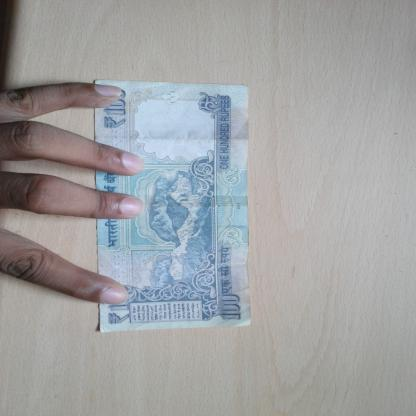Old100Back: (94, 79, 253, 334)
